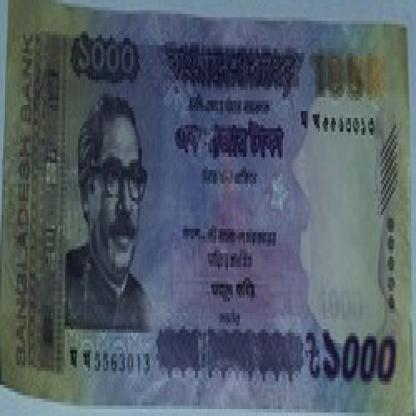One Thousand taka: (304, 326, 398, 392), (72, 31, 140, 83)
